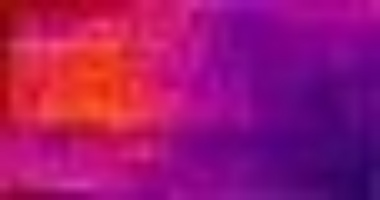Shadow: (162, 1, 380, 200)
